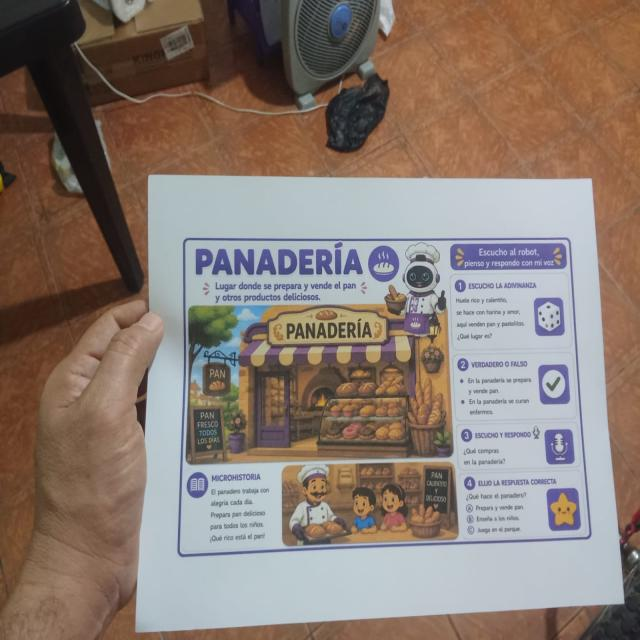panaderia: (174, 231, 596, 564)
